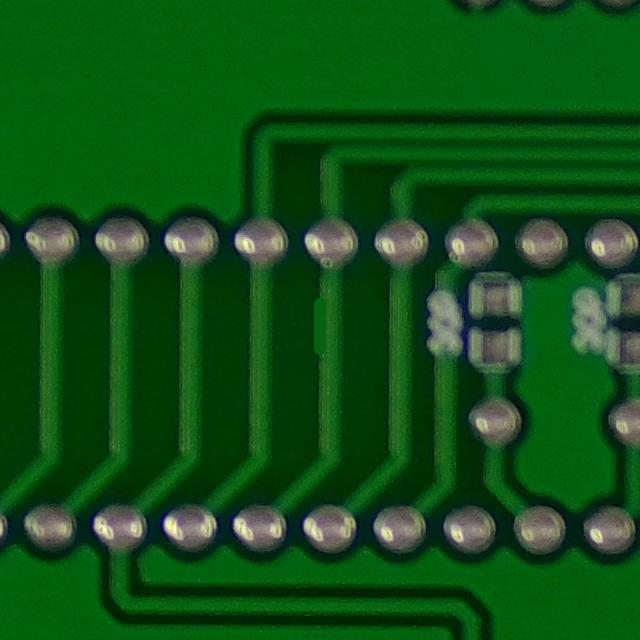spur: (296, 281, 345, 360)
